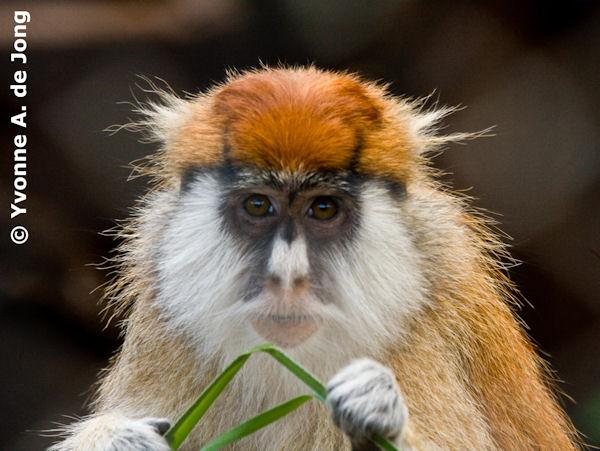monkey: (51, 65, 589, 451)
